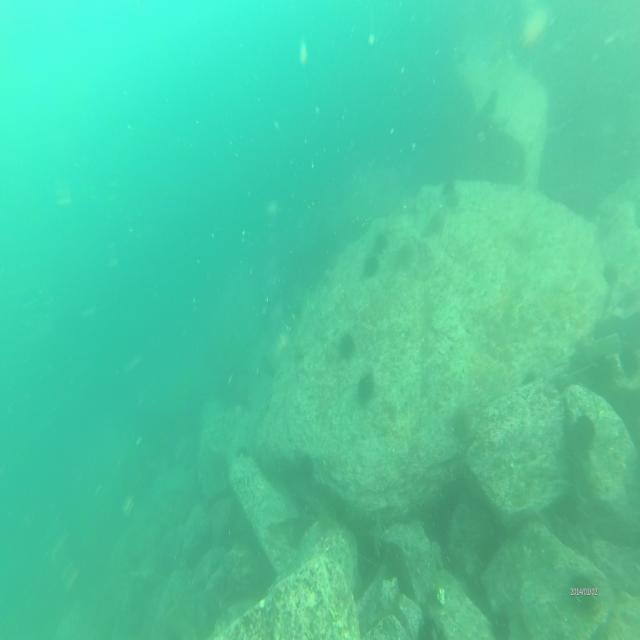echinus: (567, 570, 601, 615), (571, 407, 597, 455), (357, 367, 378, 411), (442, 170, 463, 210), (452, 407, 472, 445), (391, 239, 413, 272), (603, 254, 621, 292), (360, 250, 381, 282), (337, 328, 356, 359), (372, 228, 387, 255)
